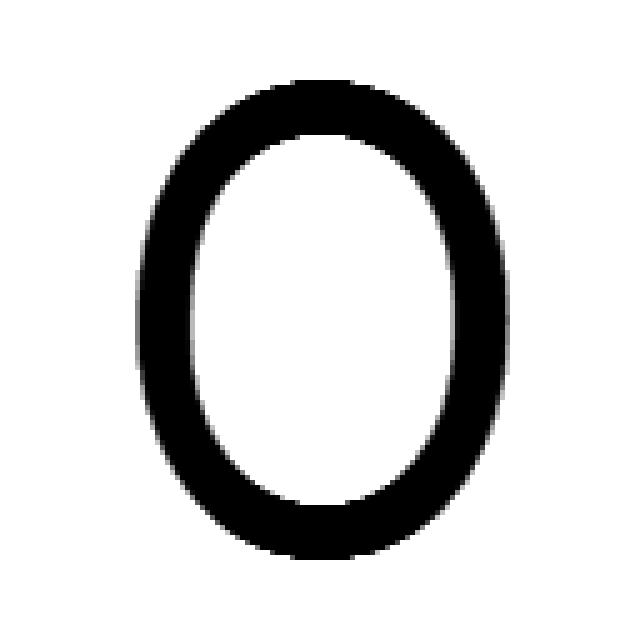O: (135, 80, 510, 565)
